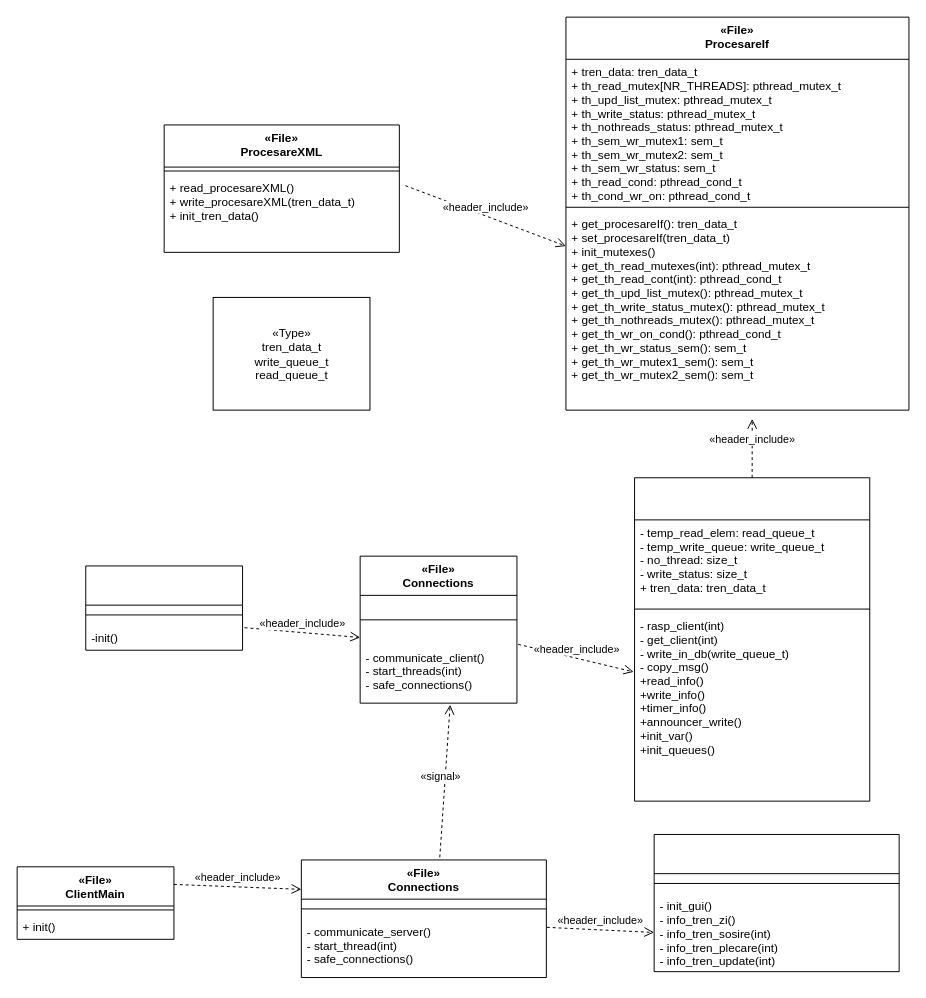
This 926x998 diagram has some shape labels left out. The box of each missing label's shape, as (x1, y1, x2, y2) in pixels:
«File» GUI: (653, 833, 899, 972)
«File» ProcesareInfo: (634, 477, 870, 801)
«File» ServerMain: (85, 565, 243, 650)
